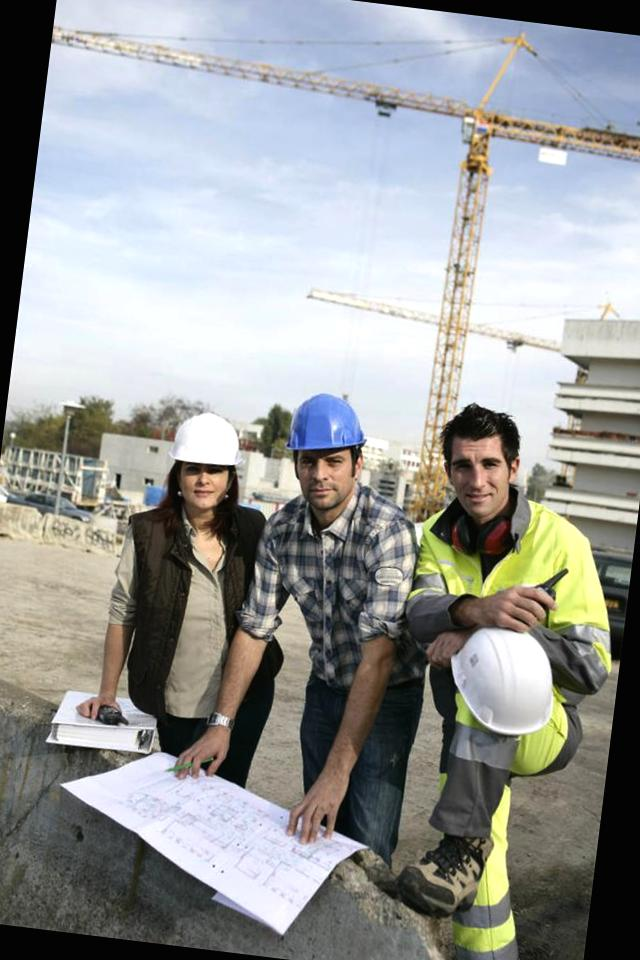no_helmet: (426, 388, 536, 544)
